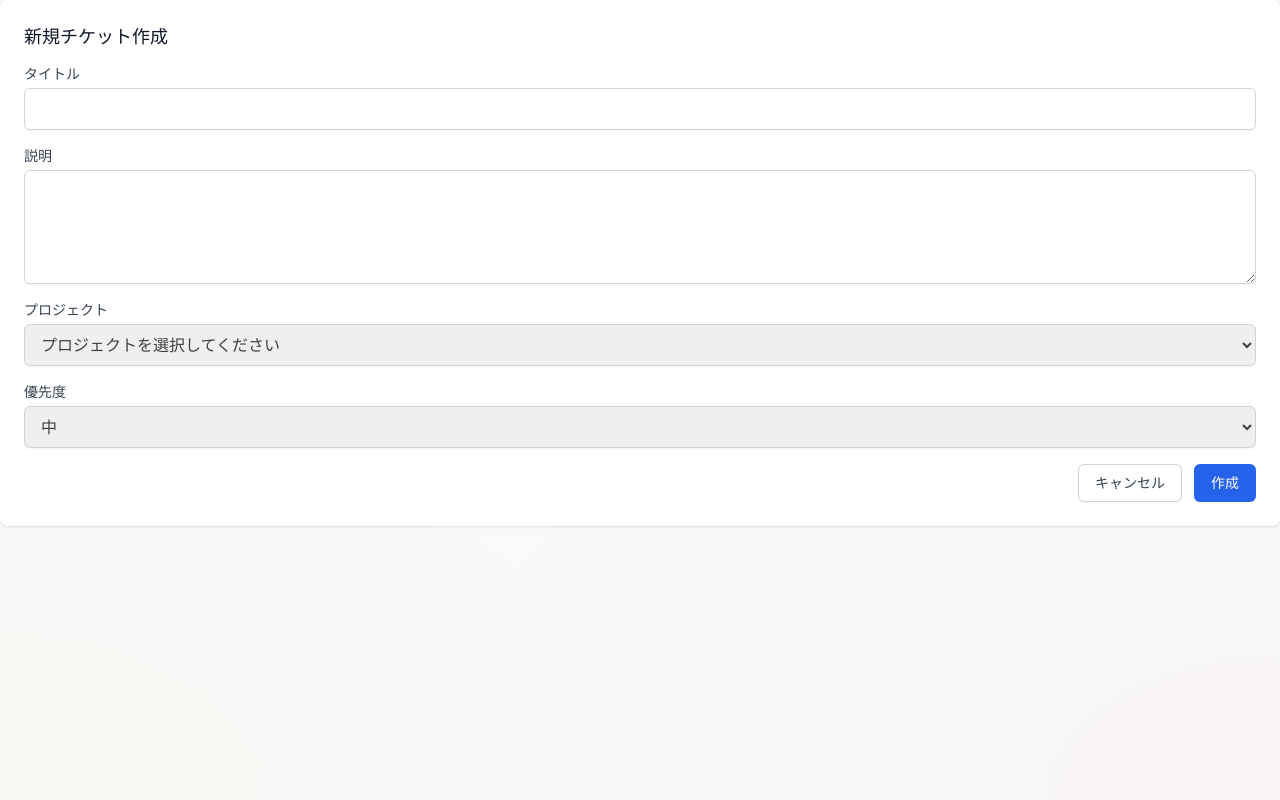
Test case: TicketCreateForm › フォーム送信が失敗した場合、エラーメッセージが表示されること
//  フォームに入力
Step 1. Type "テストチケット" into the field labelled "タイトル" → (640, 109), box x1=24 y1=88 x2=1256 y2=130
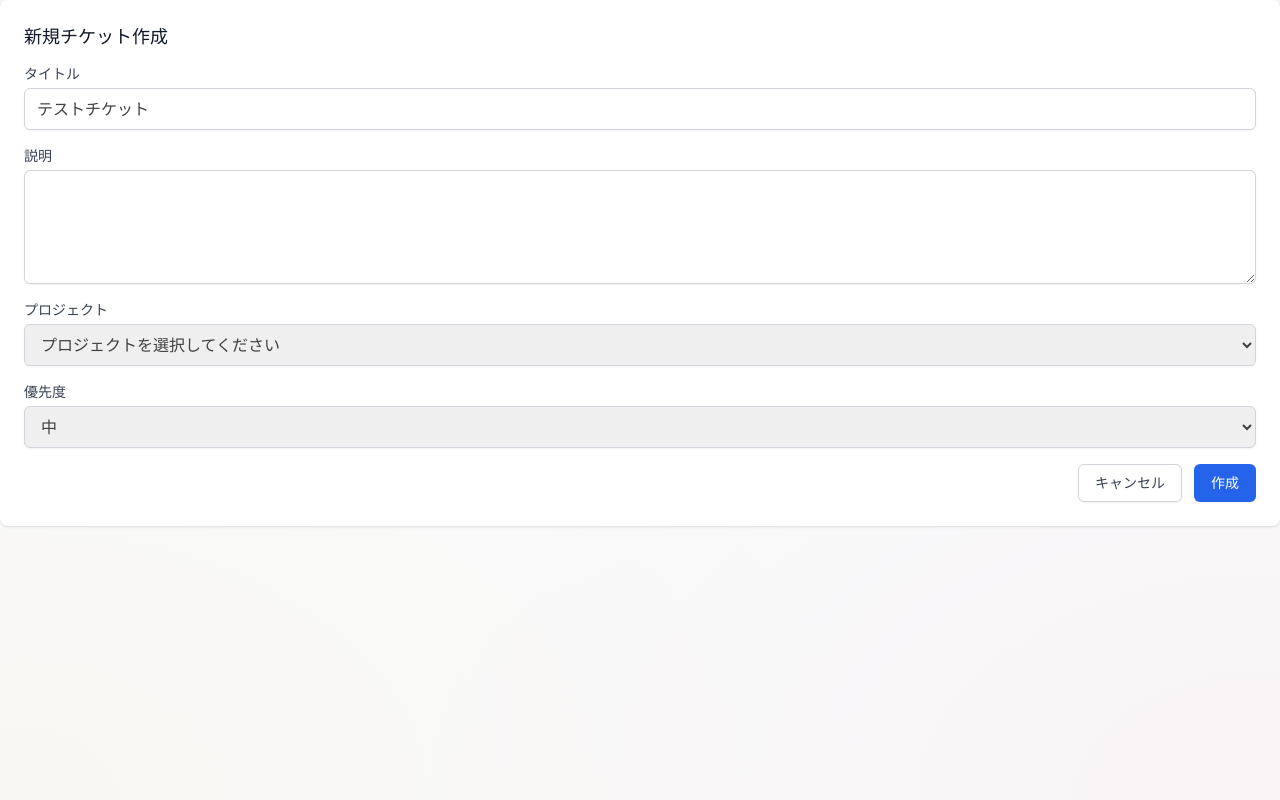
Step 2. Type "テスト説明" into the text box labelled "説明" → (640, 227), box x1=24 y1=170 x2=1256 y2=284
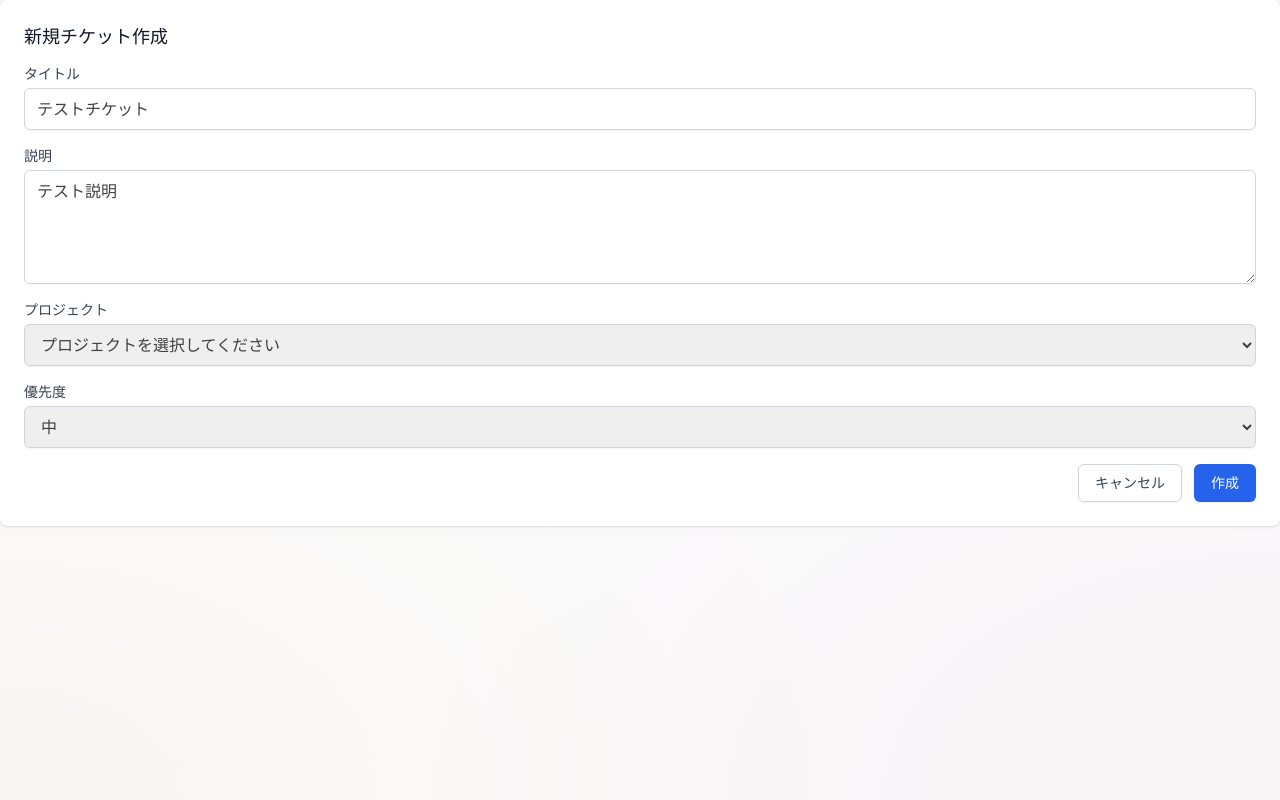
Step 3. Select "テストプロジェクト1" in the dropdown labelled "プロジェクト" → (640, 345), box x1=24 y1=324 x2=1256 y2=366
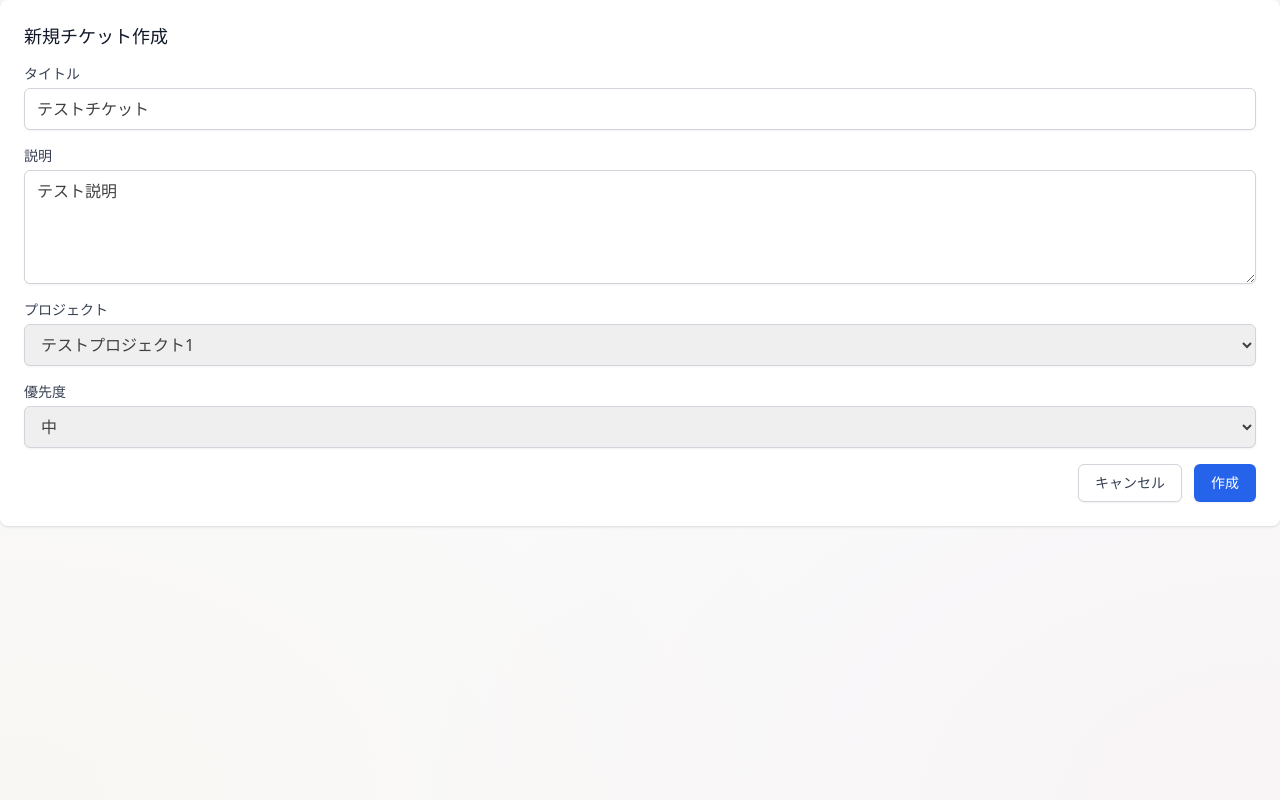
Step 4. Click the button "作成" → (1225, 483), box x1=1194 y1=464 x2=1256 y2=502
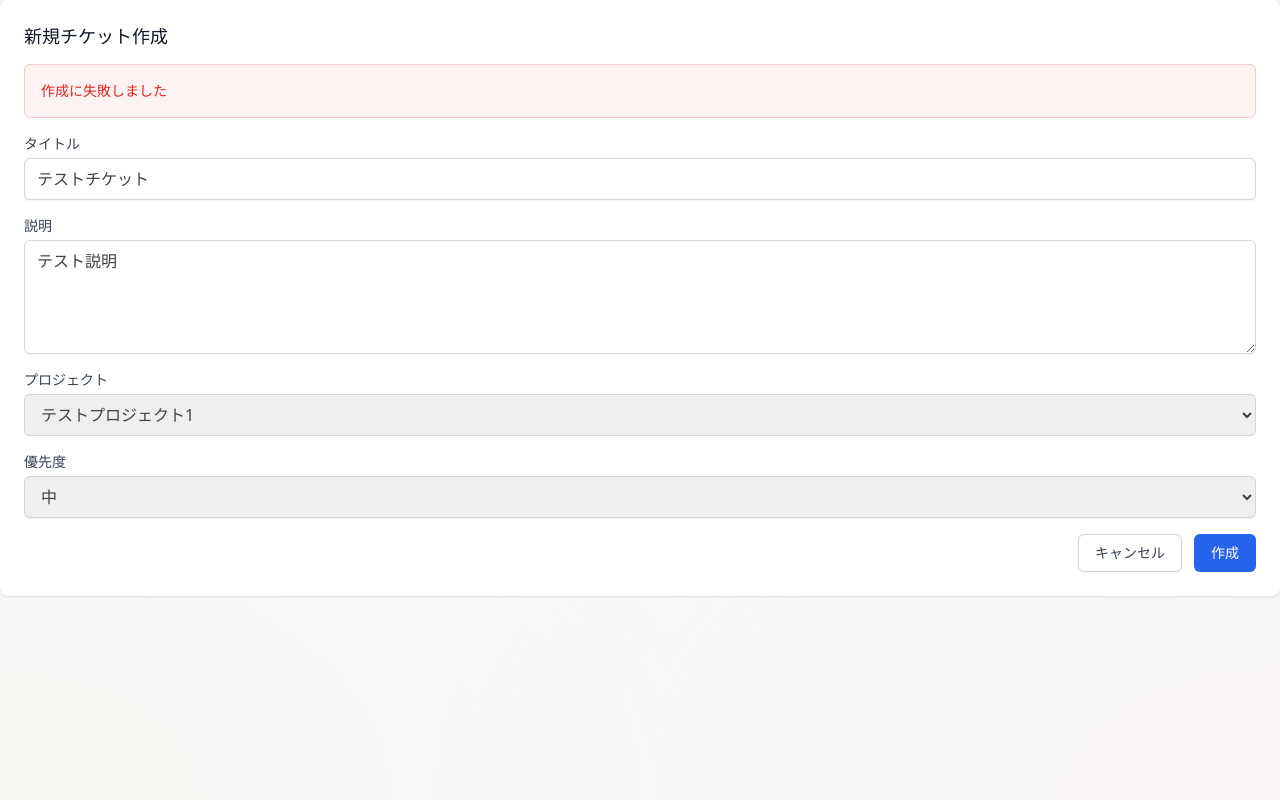
Now the text "作成に失敗しました" is shown, box x1=41 y1=81 x2=167 y2=100
